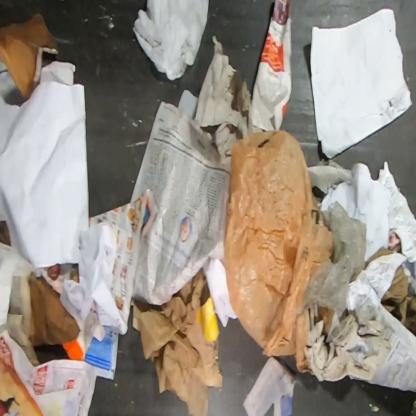cardboard: (0, 13, 59, 102), (380, 263, 415, 339), (367, 246, 394, 263), (0, 219, 12, 249)
soft_plastic: (224, 129, 333, 373), (296, 201, 368, 316), (132, 0, 209, 82), (314, 307, 336, 334)
